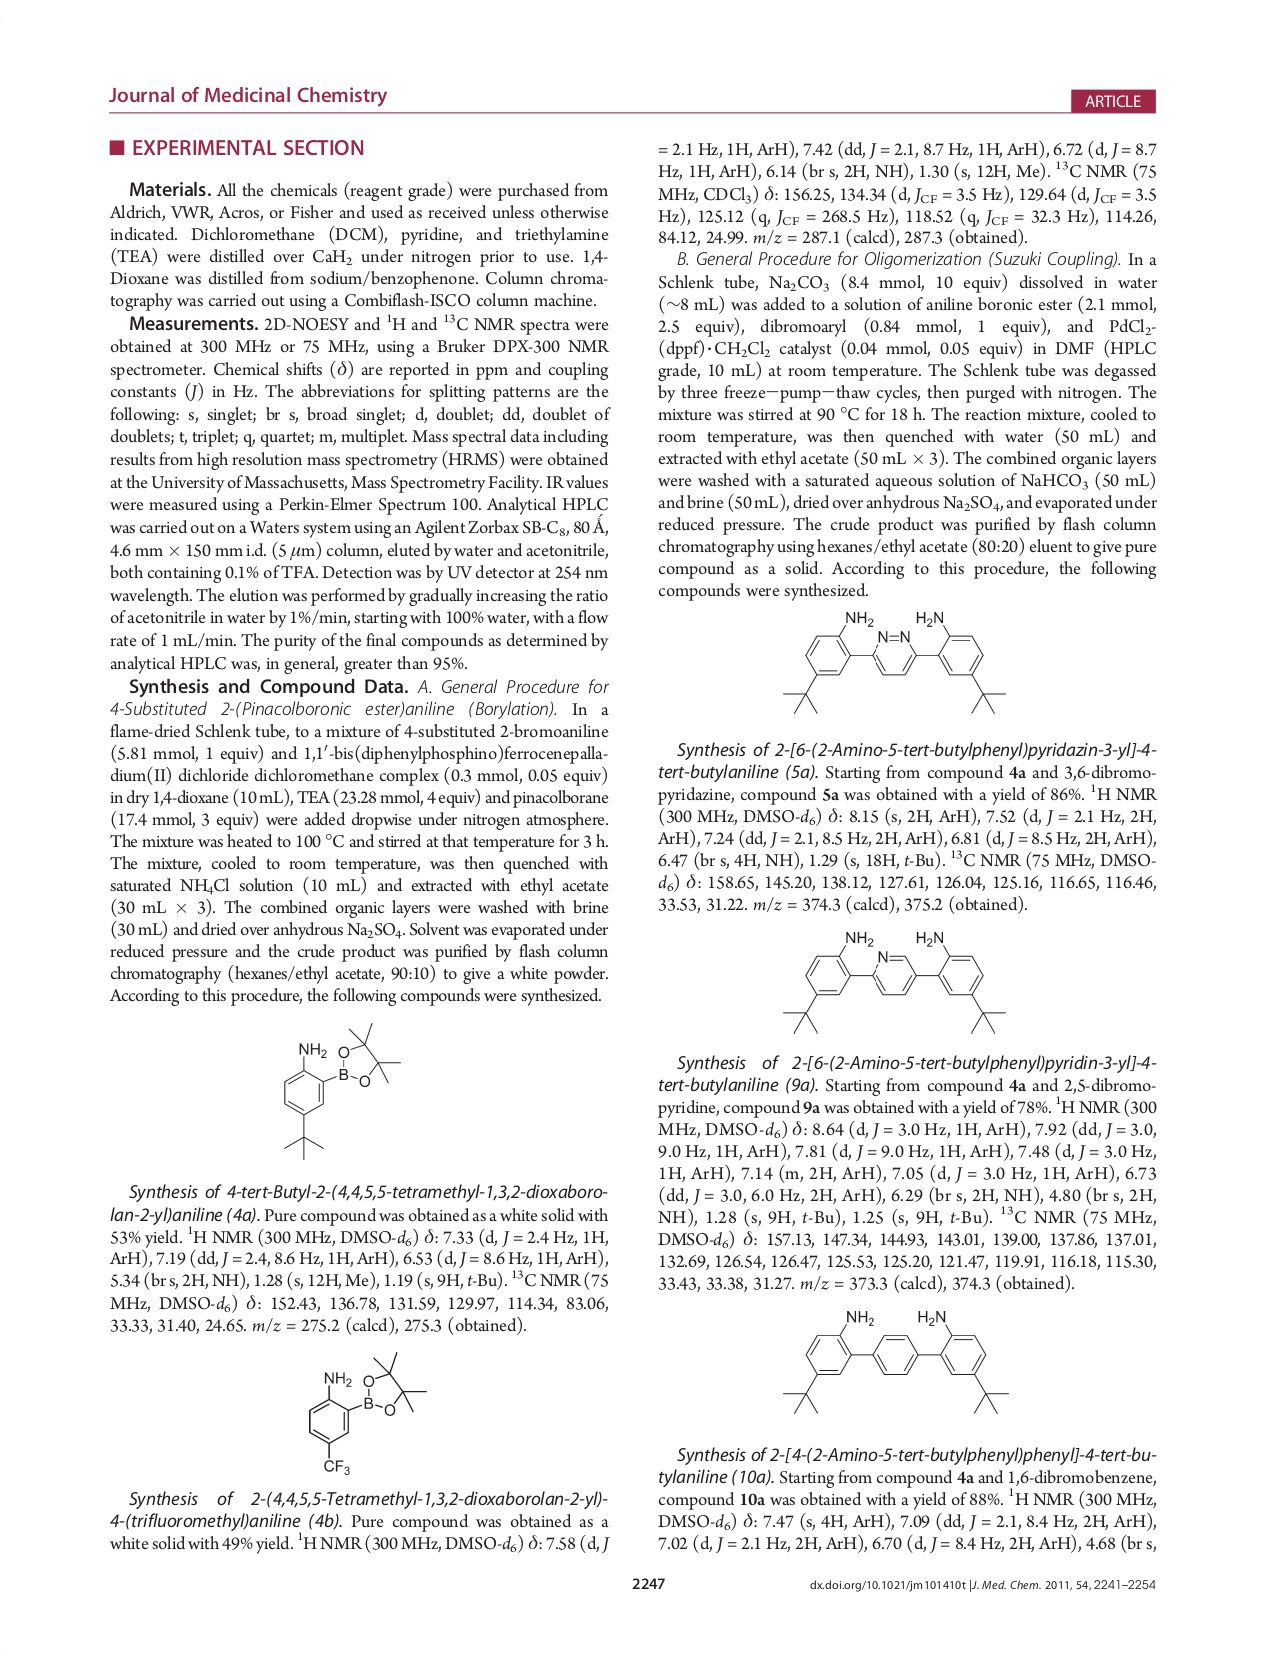exist_molecular: (778, 1301, 1015, 1418), (777, 927, 1012, 1037), (782, 605, 1007, 719), (277, 1019, 403, 1161), (305, 1346, 434, 1475)
